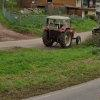tractors: (43, 16, 82, 48)
